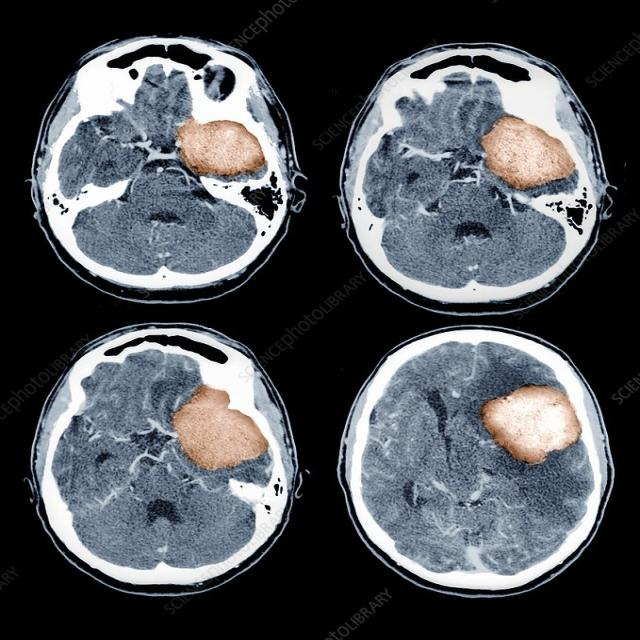Tumor: (481, 387, 578, 461), (170, 393, 258, 462), (482, 118, 560, 184), (175, 119, 258, 170)
